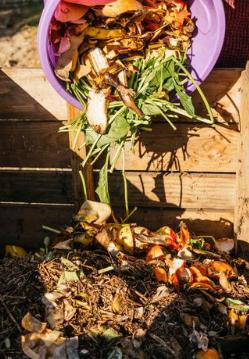organic: (46, 0, 211, 136), (59, 205, 239, 297), (20, 245, 136, 358), (56, 199, 114, 251), (137, 0, 192, 49), (54, 31, 85, 80), (85, 87, 111, 134), (99, 0, 144, 18), (84, 46, 110, 77), (55, 2, 91, 23), (83, 26, 124, 40), (118, 37, 144, 50)
